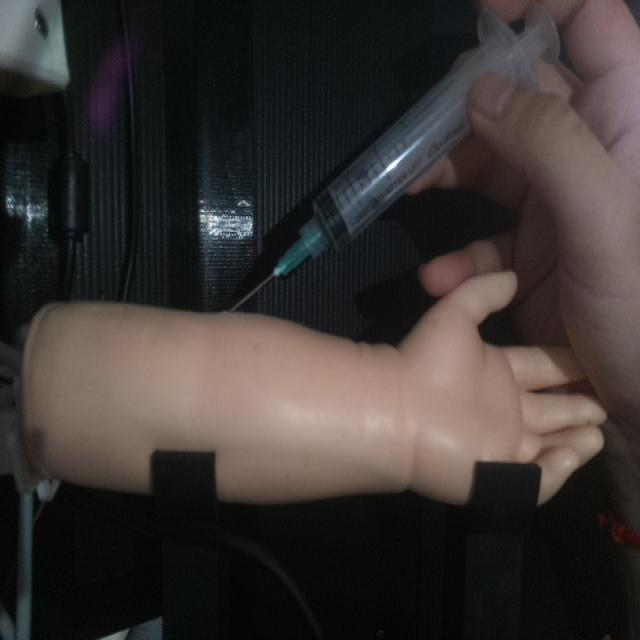Outside: (226, 0, 566, 316)
